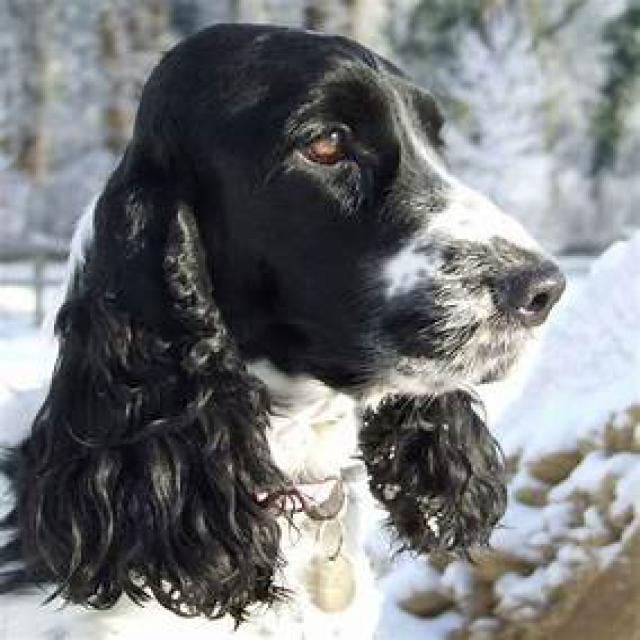dog: (9, 23, 570, 640)
